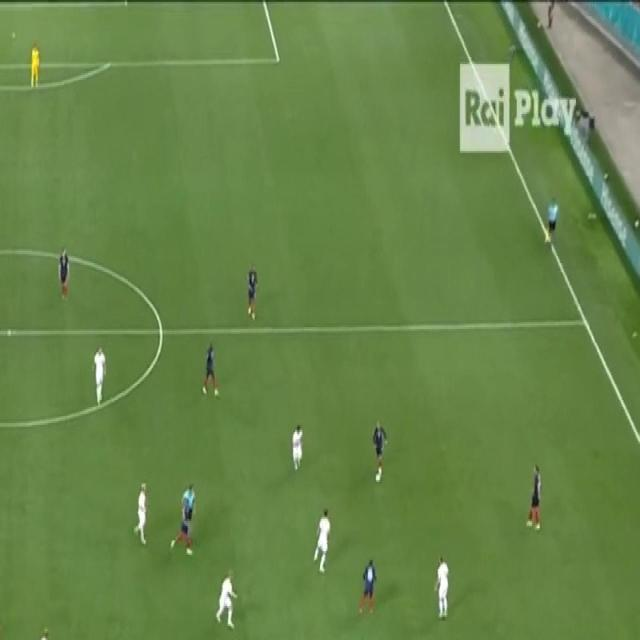ball: (373, 471, 382, 484)
player-white: (355, 553, 380, 617), (524, 459, 544, 536), (313, 504, 332, 580), (432, 550, 452, 622), (219, 574, 241, 634), (90, 342, 108, 413), (201, 338, 221, 400), (371, 418, 389, 486), (170, 511, 194, 559), (243, 263, 261, 325), (133, 479, 149, 544), (546, 193, 564, 250), (289, 421, 305, 475), (180, 479, 198, 526), (57, 242, 71, 300), (28, 37, 42, 89), (31, 624, 51, 640), (0, 622, 1, 640)
